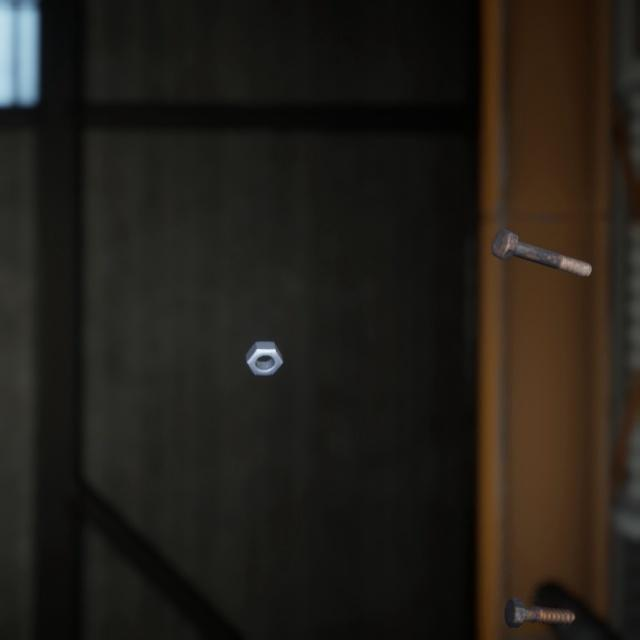bolt: (487, 208, 596, 265), (499, 569, 579, 608)
nut: (241, 317, 287, 361)
